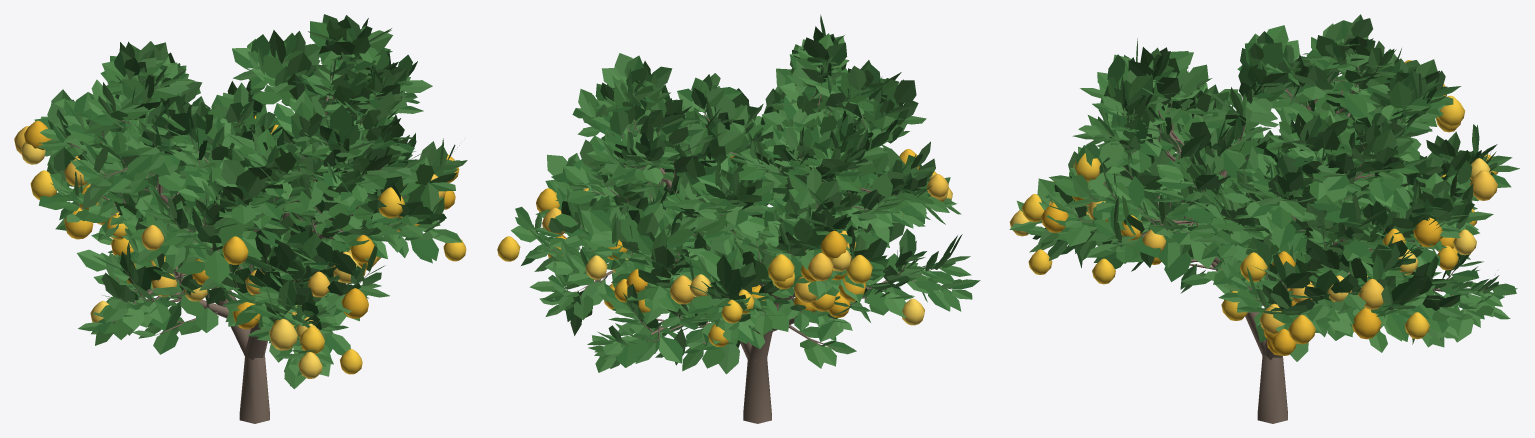
Rendered from cognassier_champion_ete.glb.
3 views of the same model, side by side, from view 1: azimuth 30°, elevation 25°; view 2: azimuth 150°, elevation 25°; view 3: azimuth 270°, elevation 25° (orthographic). The views are drawn at different scales.
Visible parts, largest first — view 1: Cognassier_Feuillage, Cognassier_Coings, Cognassier_Tronc; view 2: Cognassier_Feuillage, Cognassier_Coings, Cognassier_Tronc; view 3: Cognassier_Feuillage, Cognassier_Coings, Cognassier_Tronc.
Part boxes in pixels (left/top/right/bottom): Cognassier_Feuillage: left=34, top=14, right=467, bottom=389; Cognassier_Coings: left=14, top=115, right=466, bottom=378; Cognassier_Tronc: left=68, top=58, right=447, bottom=423; Cognassier_Feuillage: left=511, top=14, right=980, bottom=374; Cognassier_Coings: left=497, top=149, right=952, bottom=346; Cognassier_Tronc: left=535, top=65, right=951, bottom=423; Cognassier_Feuillage: left=1009, top=14, right=1519, bottom=361; Cognassier_Coings: left=1009, top=60, right=1498, bottom=355; Cognassier_Tronc: left=1041, top=56, right=1488, bottom=423.
Bounding box in the file's own units: 3.25 × 2.7 × 3.41.
